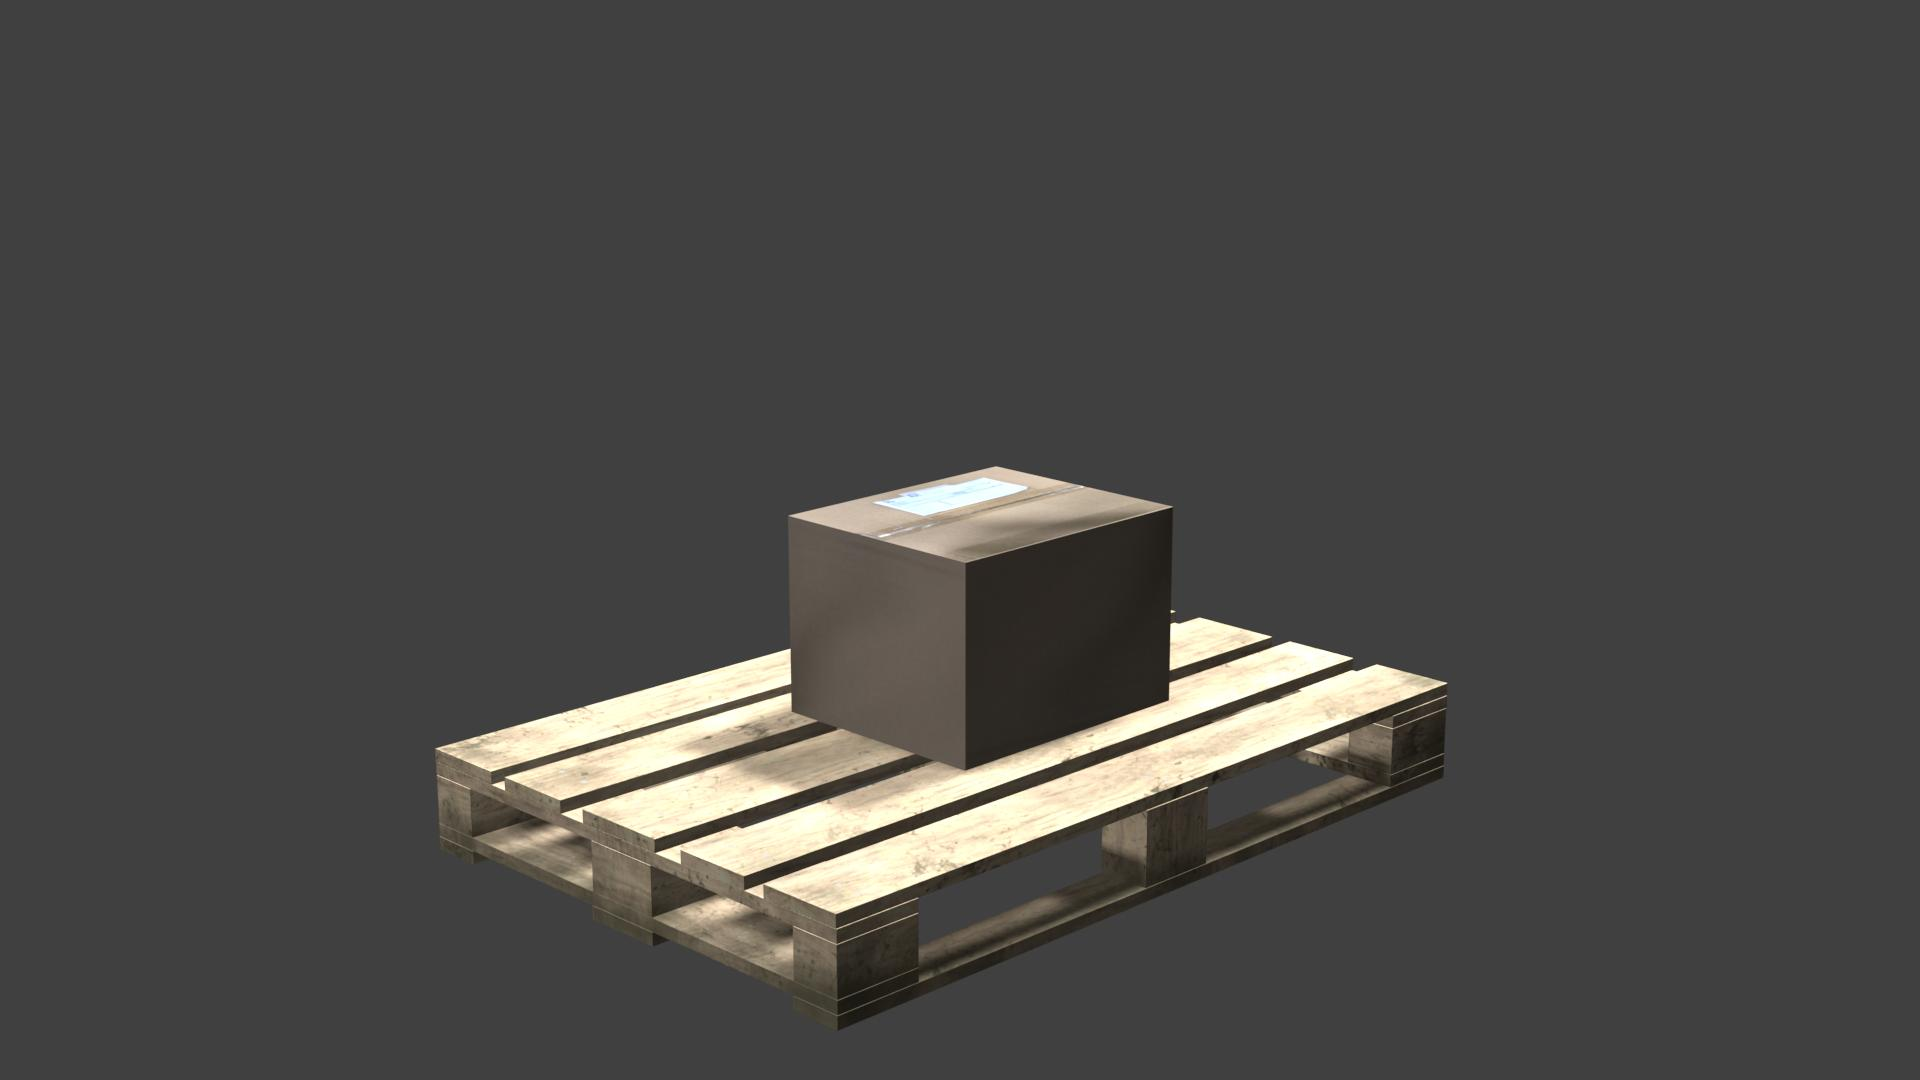group_box_top: (789, 465, 1172, 563)
palet: (434, 607, 1452, 1033)
tablet_left: (789, 509, 1172, 769)
